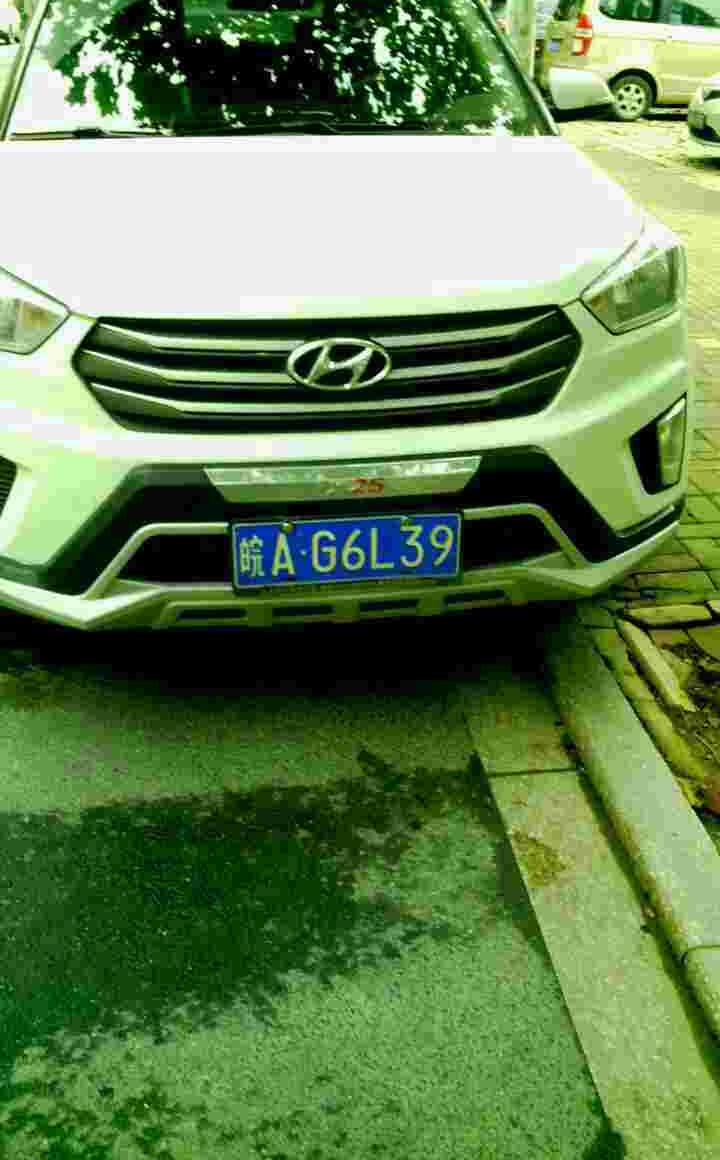license_plate: (221, 513, 474, 585)
